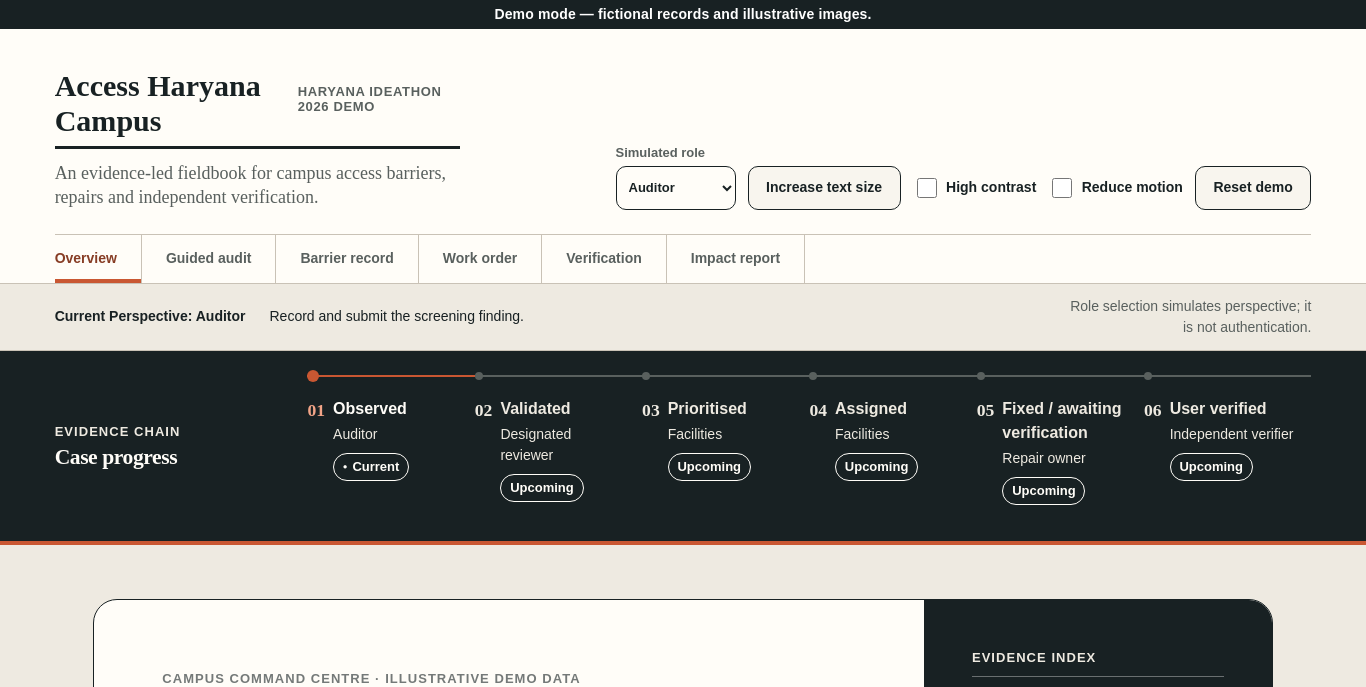
Scenario: accessible application shell › requires confirmation before reset and allows cancellation
The image size is (1366, 687).
Click the button "Reset demo" at (1253, 188), box [1195,166,1311,210]
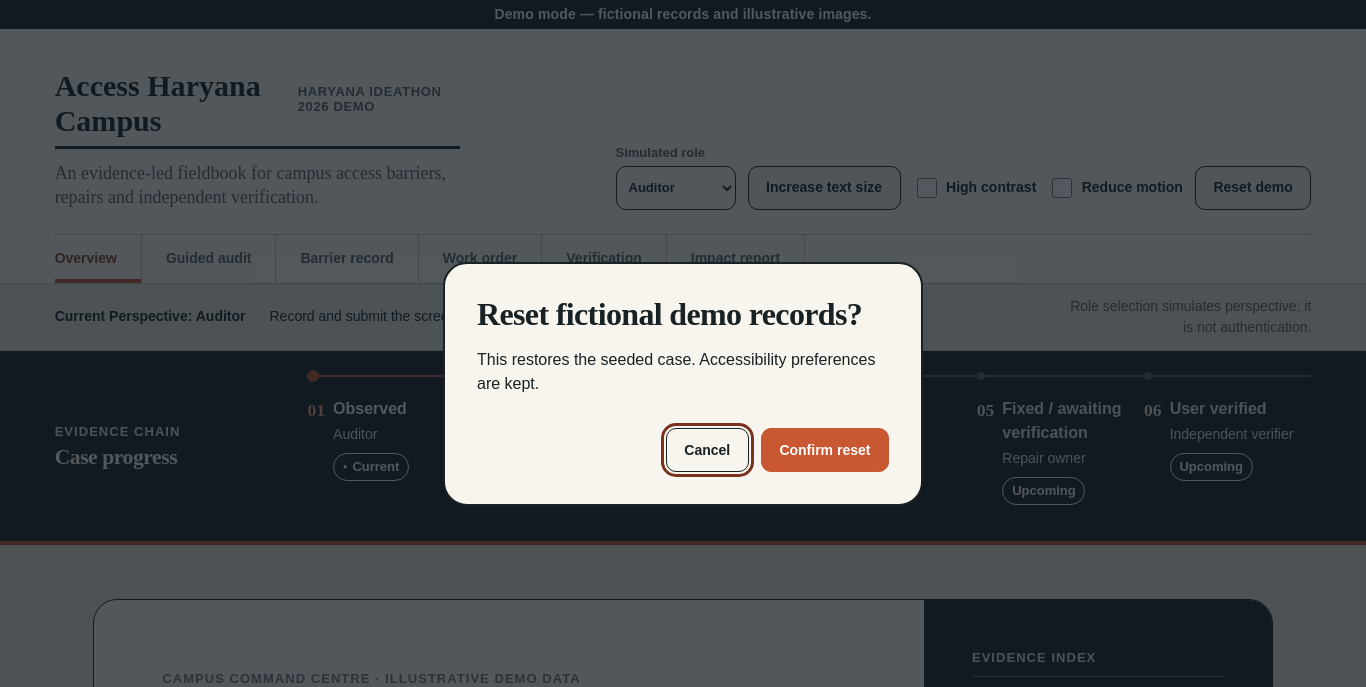
Expected: the dialog "Reset fictional demo records" is shown, [443,262,923,506]
Click the button "Cancel" at (707, 450), box [666,428,749,472]
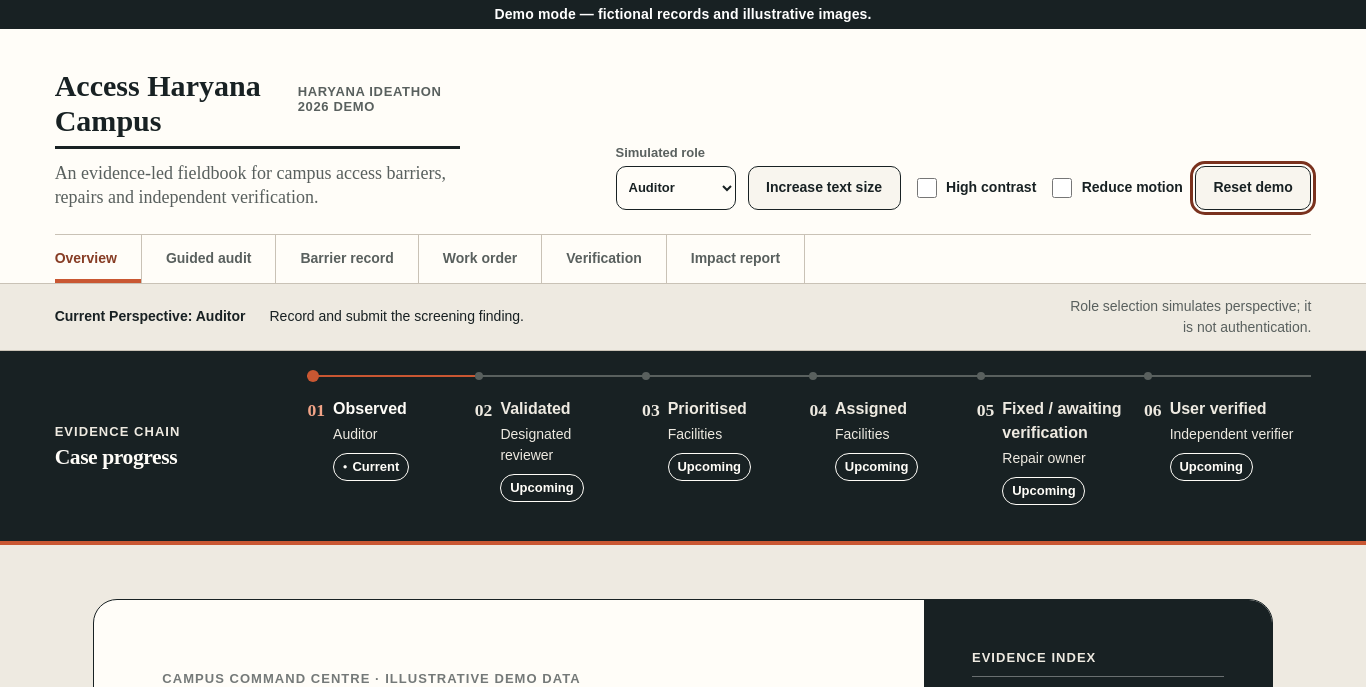
Expected: the dialog is gone
